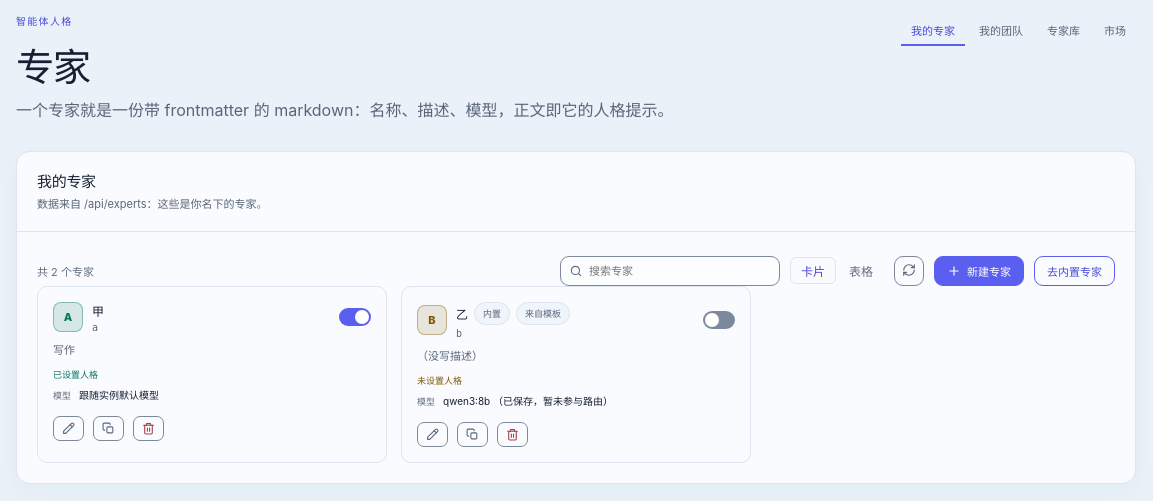
Test: 搜索无结果与没有数据是两种空态
Expected: the text "共 2 个专家" is shown, [37, 263, 94, 279]
Type "不存在" into the search field labelled "搜索专家". click: (670,271)
box: [560, 256, 780, 286]
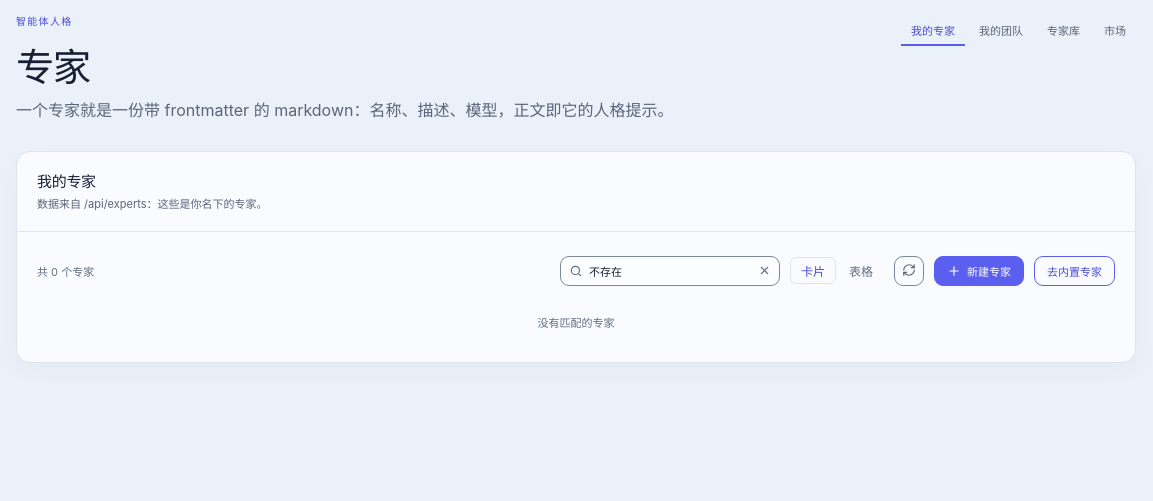
Expected: the text "没有匹配的专家" is shown, [538, 316, 614, 330]
Note: 有值才出现清除按钮
Click the button named "清除". click: (764,271)
box: [754, 260, 775, 281]
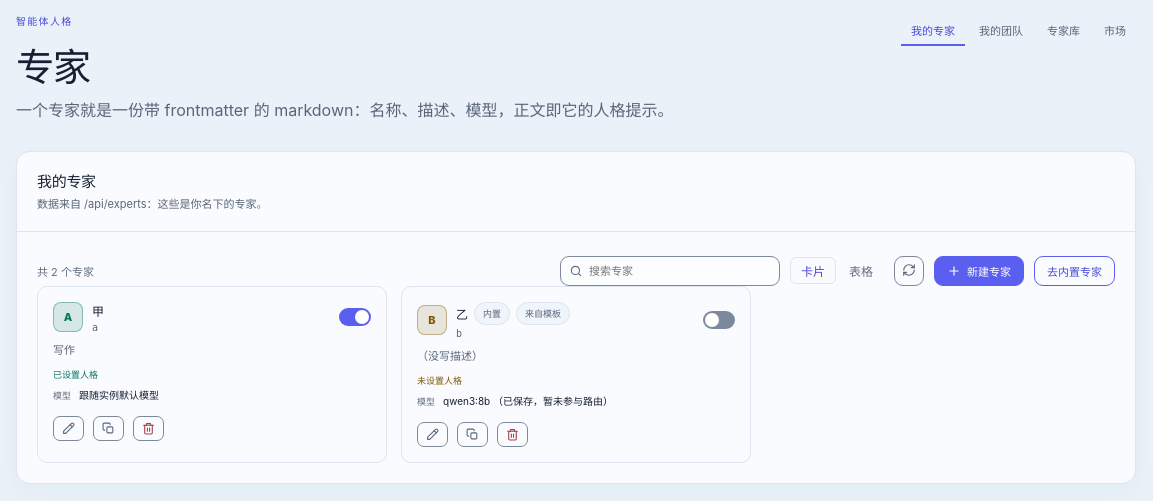
Expected: the text "共 2 个专家" is shown, [37, 263, 94, 279]
